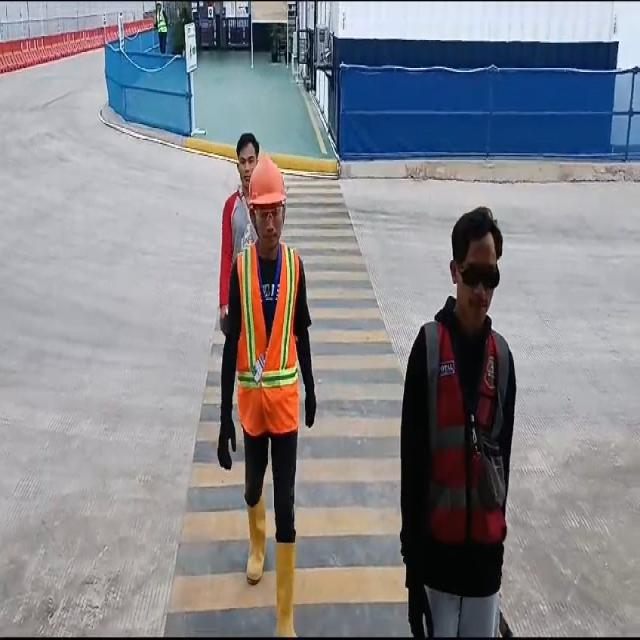gloves: (405, 582, 439, 640), (213, 423, 238, 474), (303, 394, 323, 432)
goggles: (448, 251, 510, 294), (253, 201, 289, 225)
helmet: (248, 156, 288, 209)
safety_vest: (420, 316, 510, 545), (238, 245, 302, 439)
